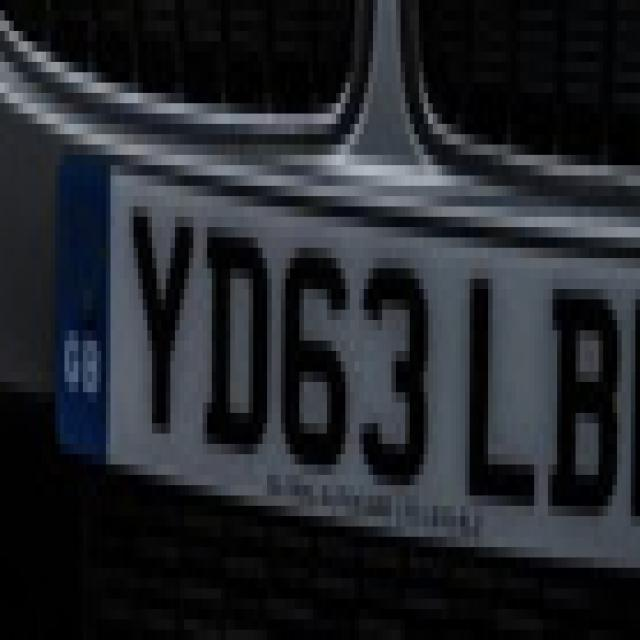3: (360, 242, 437, 502)
6: (279, 216, 355, 494)
B: (544, 255, 624, 536)
D: (200, 200, 272, 470)
L: (460, 252, 544, 528)
Y: (128, 192, 195, 443)
